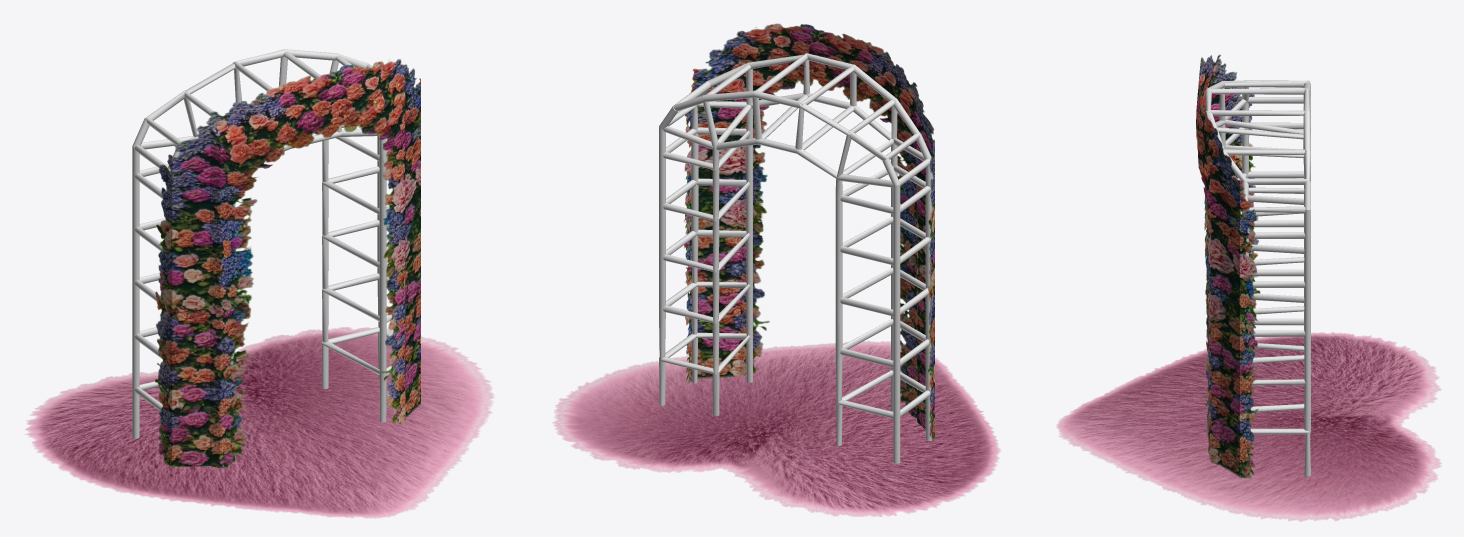
File: arch.glb
3 renders of one model, left to right at view 1: azimuth 30°, elevation 25°; view 2: azimuth 150°, elevation 25°; view 3: azimuth 270°, elevation 25°, orthographic. The views are drawn at different scales.
Parts seen in each view (by area): view 1: 平面.001; view 2: 平面.001; view 3: 平面.001.
Part boxes in pixels (x1,y1,x2,y2): 平面.001: [25, 49, 494, 518]; 平面.001: [552, 23, 1000, 516]; 平面.001: [1056, 54, 1441, 521].
Bounding box in the file's own units: 2.22 × 1.93 × 1.96.
2 materials, 2 textured.
